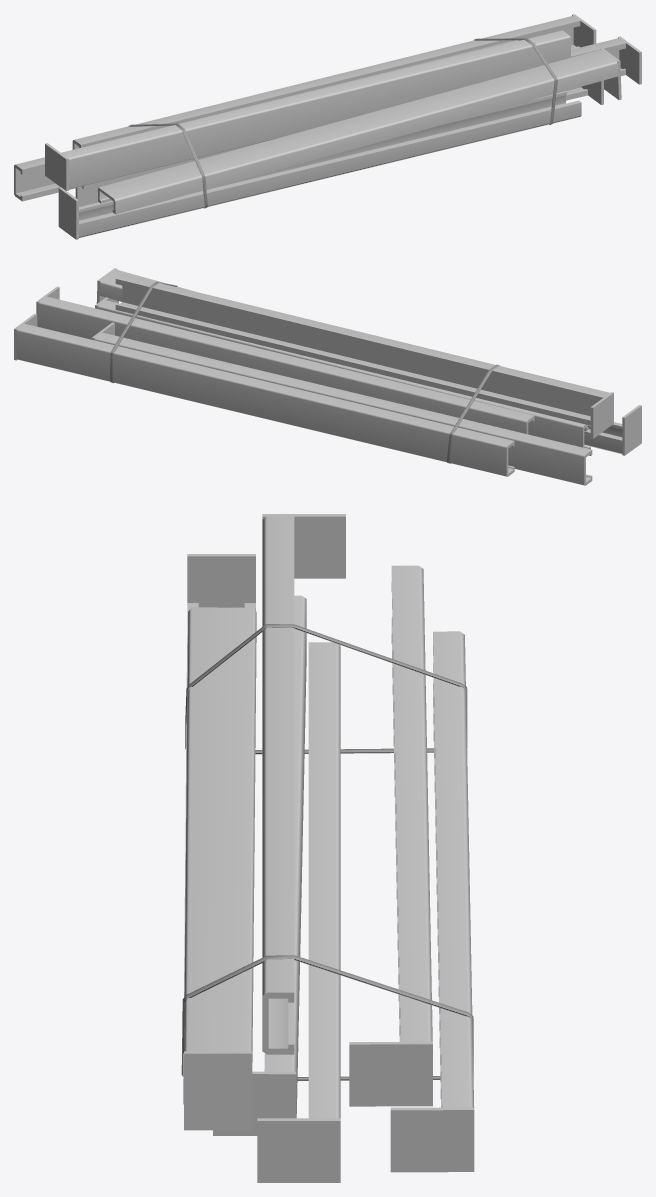
Rendered from SM_RackPile_02.FBX.
The picture shows the model from 3 angles, top to bottom: view 1: azimuth 30°, elevation 25°; view 2: azimuth 150°, elevation 25°; view 3: azimuth 270°, elevation 25°; orthographic projection. The views are drawn at different scales.
Parts seen in each view (by area): view 1: SM_RackPile_02; view 2: SM_RackPile_02; view 3: SM_RackPile_02.
Part boxes in pixels (x1=…): SM_RackPile_02: x1=14, y1=14, x2=641, y2=239; SM_RackPile_02: x1=14, y1=268, x2=641, y2=485; SM_RackPile_02: x1=181, y1=514, x2=474, y2=1182.
Size of the model in its own units: 348 by 77.5 by 37.26.
